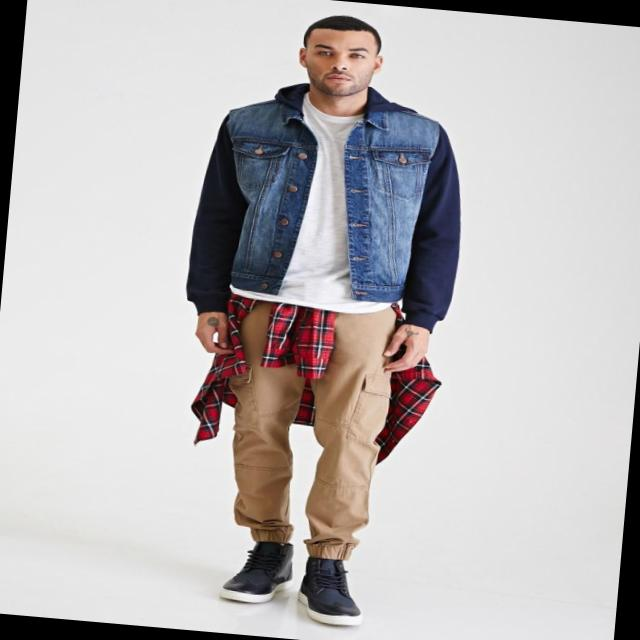Jacket: (178, 83, 482, 343)
